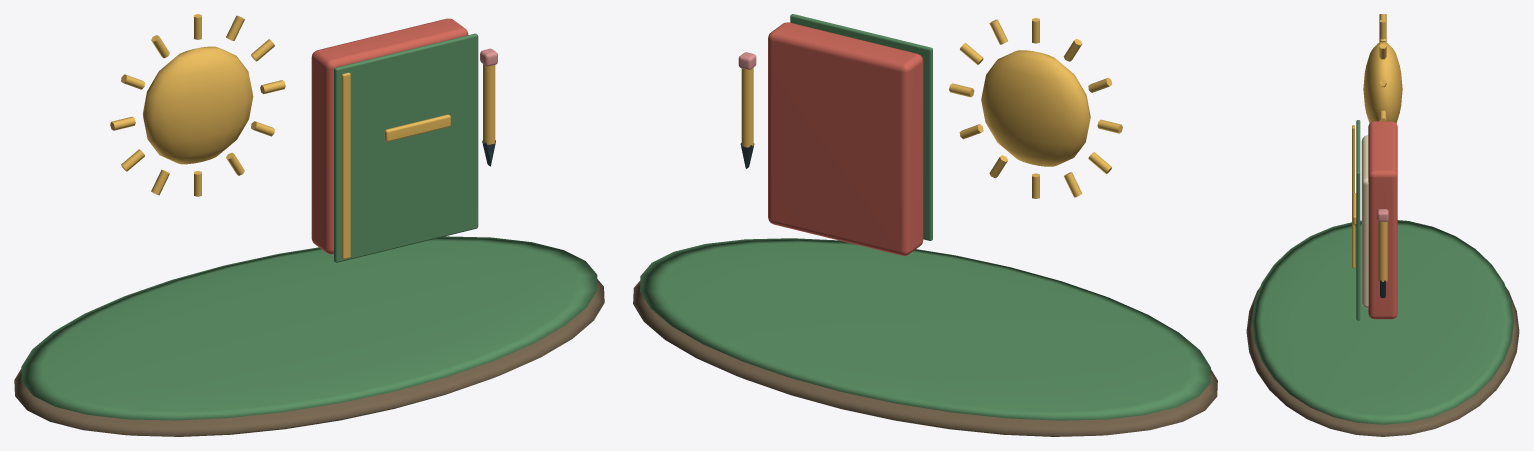
Rendered from daily-diary.glb.
3 renders of one model, left to right at view 1: azimuth 30°, elevation 25°; view 2: azimuth 150°, elevation 25°; view 3: azimuth 270°, elevation 25°, orthographic. The views are drawn at different scales.
Visible parts, largest first — view 1: daily-diary_surface_01, daily-diary_surface_02, daily-diary_surface_00, daily-diary_surface_03; view 2: daily-diary_surface_01, daily-diary_surface_03, daily-diary_surface_02, daily-diary_surface_00; view 3: daily-diary_surface_01, daily-diary_surface_03, daily-diary_surface_00, daily-diary_surface_02, daily-diary_surface_04.
Boxes of the visible parts, x1,y1,x2,y2 form: daily-diary_surface_01: (21,33,597,420); daily-diary_surface_02: (110,14,495,259); daily-diary_surface_00: (14,279,604,436); daily-diary_surface_03: (311,18,468,254); daily-diary_surface_01: (640,14,1210,420); daily-diary_surface_03: (768,22,923,255); daily-diary_surface_02: (741,18,1122,198); daily-diary_surface_00: (633,280,1217,436); daily-diary_surface_01: (1252,120,1513,424); daily-diary_surface_03: (1368,121,1397,319); daily-diary_surface_00: (1246,287,1519,436); daily-diary_surface_02: (1352,14,1402,281); daily-diary_surface_04: (1361,135,1368,308).
Size of the model in its own units: 4.56 by 2.85 by 2.5.
